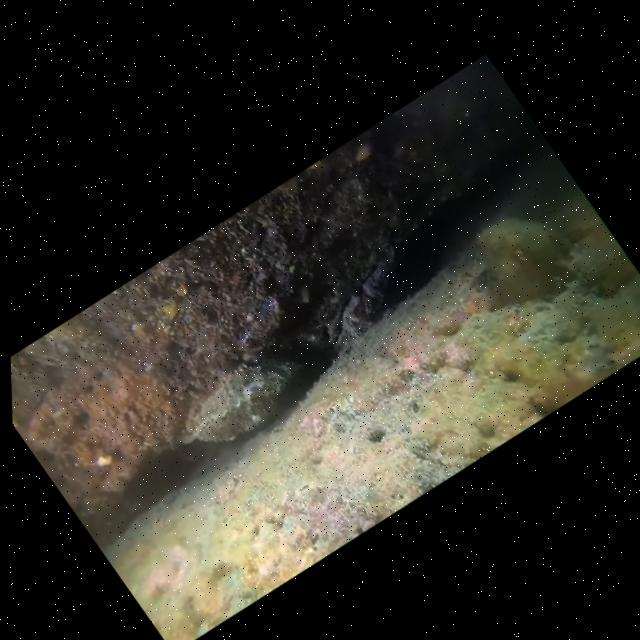Oyster-Closed: (170, 328, 319, 471)
